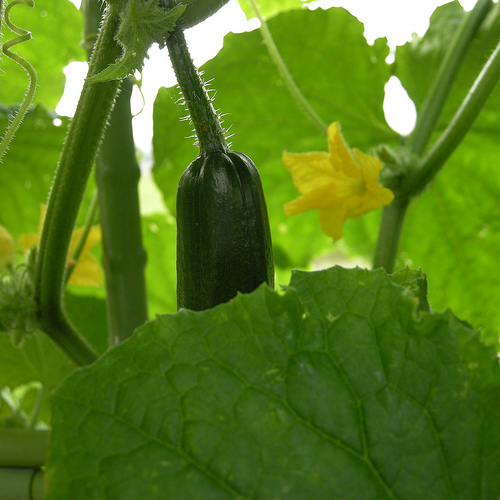cucumber: (177, 152, 272, 311)
